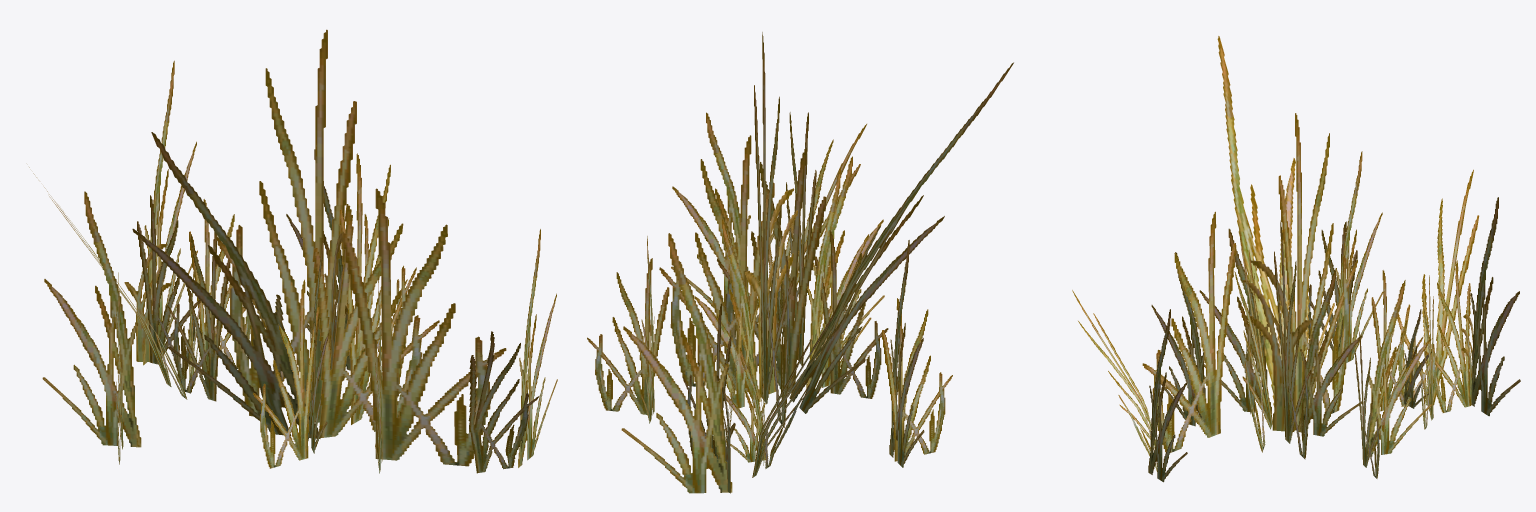
The model's file is nml-bd109.glb.
3 views of the same model, side by side, from view 1: azimuth 30°, elevation 25°; view 2: azimuth 150°, elevation 25°; view 3: azimuth 270°, elevation 25° (orthographic). The views are drawn at different scales.
Parts seen in each view (by area): view 1: geom_node_0; view 2: geom_node_0; view 3: geom_node_0.
Boxes of the visible parts, x1=… form: geom_node_0: x1=29, y1=29, x2=557, y2=473; geom_node_0: x1=587, y1=32, x2=1013, y2=493; geom_node_0: x1=1072, y1=36, x2=1520, y2=482.
Bounding box in the file's own units: 4.38 × 4 × 5.14.
Materials: 1 (1 with a texture image).
